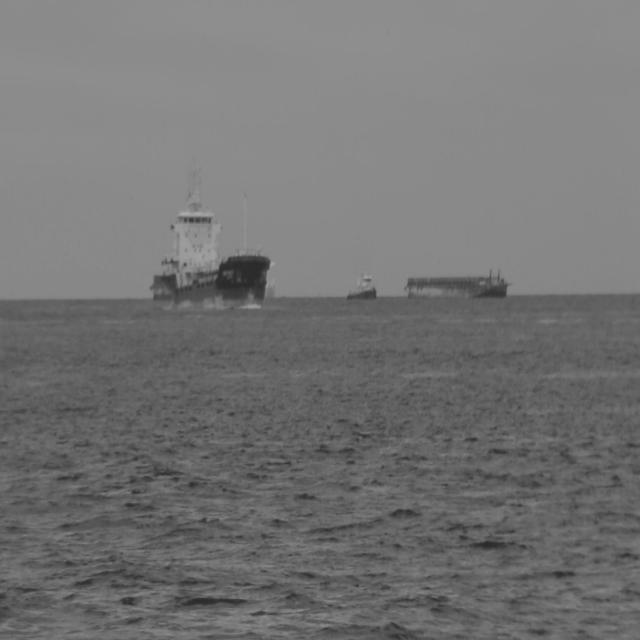ship: (150, 168, 270, 308), (402, 270, 508, 300), (262, 255, 276, 304)
